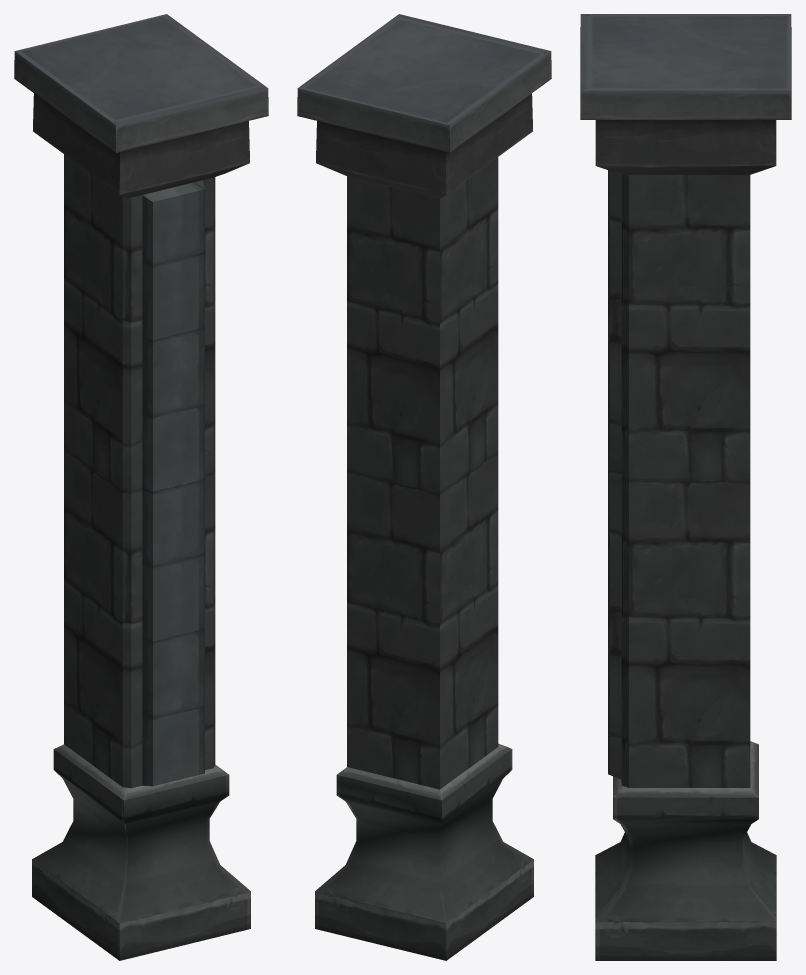
File: pillar_type002.FBX
The picture shows the model from 3 angles, left to right: view 1: azimuth 30°, elevation 25°; view 2: azimuth 150°, elevation 25°; view 3: azimuth 270°, elevation 25°; orthographic projection. The views are drawn at different scales.
Parts seen in each view (by area): view 1: pillar_type002; view 2: pillar_type002; view 3: pillar_type002.
Boxes of the visible parts, x1=… form: pillar_type002: x1=14, y1=14, x2=268, y2=960; pillar_type002: x1=297, y1=14, x2=551, y2=960; pillar_type002: x1=580, y1=14, x2=791, y2=960.
Bounding box in the file's own units: 208 × 1098 × 240.
1 material, 1 textured.
